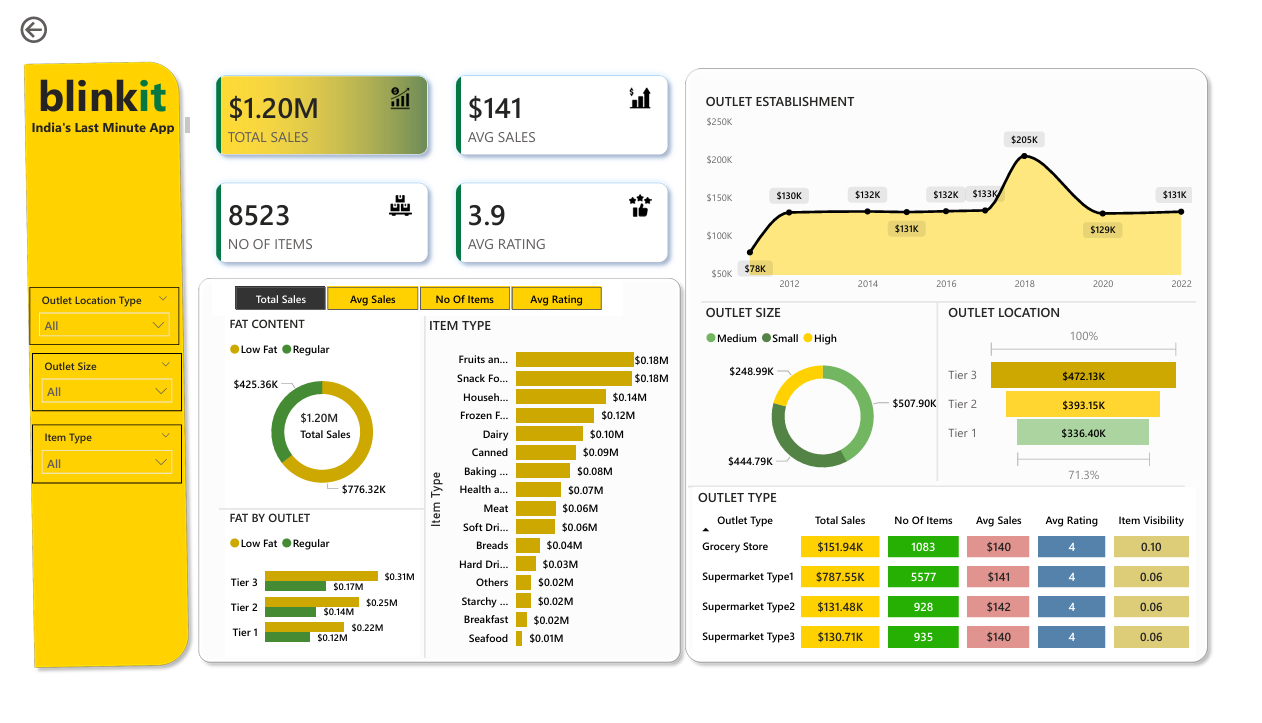

What the dashboard file says about the page in this screenshot:
{"tool":"powerbi","page":{"name":"Page 1","canvas":[1400,800],"ordinal":0},"visuals":[{"type":"shape","box":[0,0,205,800],"z":0},{"type":"textbox","box":[0,115,205,28.3],"z":1000},{"type":"textbox","box":[20,55,160,75],"z":2000},{"type":"actionButton","box":[0,0,100,40],"z":3000},{"type":"cardVisual","fields":{"Data":["BlinkIT Grocery Data.Total Sales","BlinkIT Grocery Data.Avg Sales","BlinkIT Grocery Data.No Of Items","BlinkIT Grocery Data.Avg Rating"]},"box":[198.3,43.3,570,270],"z":4000},{"type":"shape","box":[198.3,293.3,563.3,453.3],"z":5000},{"type":"slicer","fields":{"Values":["Metrics.Metrics"]},"box":[223.3,305,465,40],"z":6000},{"type":"donutChart","title":"FAT CONTENT","fields":{"Y":["BlinkIT Grocery Data.Total Sales"],"Category":["BlinkIT Grocery Data.Item Fat Content"]},"box":[236.7,345,220,216.7],"z":7000},{"type":"cardVisual","fields":{"Data":["BlinkIT Grocery Data.Total Sales"]},"box":[293.3,430,133.3,75],"z":8000},{"type":"clusteredBarChart","title":" FAT BY OUTLET","fields":{"Y":["BlinkIT Grocery Data.Total Sales"],"Category":["BlinkIT Grocery Data.Outlet Location Type"],"Series":["BlinkIT Grocery Data.Item Fat Content"]},"box":[236.7,565,220,168.3],"z":9000},{"type":"shape","box":[230,553.3,233.3,21.7],"z":10000},{"type":"shape","box":[456.7,345,13.3,388.3],"z":11000},{"type":"barChart","title":"ITEM TYPE","fields":{"Y":["BlinkIT Grocery Data.Total Sales"],"Category":["BlinkIT Grocery Data.Item Type"]},"box":[463.3,345,281.7,388.3],"z":12000},{"type":"shape","box":[750,55,610,691.7],"z":13000},{"type":"lineChart","title":"OUTLET ESTABLISHMENT","fields":{"Y":["BlinkIT Grocery Data.Total Sales"],"Category":["BlinkIT Grocery Data.Outlet Establishment Year"]},"box":[776.7,90,561.7,235],"z":14000},{"type":"shape","box":[776.7,313.3,561.7,31.7],"z":15000},{"type":"donutChart","title":"OUTLET SIZE","fields":{"Y":["BlinkIT Grocery Data.Total Sales"],"Category":["BlinkIT Grocery Data.Outlet Size"]},"box":[776.7,330,275,210],"z":16000},{"type":"shape","box":[1036.7,330,15,201.7],"z":17000},{"type":"funnel","title":"OUTLET LOCATION","fields":{"Category":["BlinkIT Grocery Data.Outlet Location Type"],"Y":["BlinkIT Grocery Data.Total Sales"]},"box":[1051.7,330,273.3,210],"z":18000},{"type":"shape","box":[761.7,531.7,563.3,13.3],"z":19000},{"type":"pivotTable","title":"OUTLET TYPE","fields":{"Values":["BlinkIT Grocery Data.Total Sales","BlinkIT Grocery Data.No Of Items","BlinkIT Grocery Data.Avg Sales","BlinkIT Grocery Data.Avg Rating","Avg(BlinkIT Grocery Data.Item Visibility)"],"Rows":["BlinkIT Grocery Data.Outlet Type"]},"box":[768.3,540,570,193.3],"z":20000},{"type":"slicer","fields":{"Values":["BlinkIT Grocery Data.Outlet Location Type"]},"box":[15,311.7,170,66.7],"z":21000},{"type":"slicer","fields":{"Values":["BlinkIT Grocery Data.Outlet Size"]},"box":[18.3,386.7,170,66.7],"z":22000},{"type":"slicer","fields":{"Values":["BlinkIT Grocery Data.Item Type"]},"box":[18.3,468.3,170,66.7],"z":23000}]}

Visuals, with their boxes on the page's 1400x800 design canvas (x1, y1, x2, y2). These are canvas units, not pixel positions in the 1262x723 screenshot, which may show the page scaled, cropped or inside an application window:
shape: BBox(0, 0, 205, 800)
textbox: BBox(0, 115, 205, 143)
textbox: BBox(20, 55, 180, 130)
actionButton: BBox(0, 0, 100, 40)
cardVisual - BlinkIT Grocery Data.Total Sales x BlinkIT Grocery Data.Avg Sales: BBox(198, 43, 768, 313)
shape: BBox(198, 293, 762, 747)
slicer - Metrics.Metrics: BBox(223, 305, 688, 345)
"FAT CONTENT" donutChart: BBox(237, 345, 457, 562)
cardVisual - BlinkIT Grocery Data.Total Sales: BBox(293, 430, 427, 505)
" FAT BY OUTLET" clusteredBarChart: BBox(237, 565, 457, 733)
shape: BBox(230, 553, 463, 575)
shape: BBox(457, 345, 470, 733)
"ITEM TYPE" barChart: BBox(463, 345, 745, 733)
shape: BBox(750, 55, 1360, 747)
"OUTLET ESTABLISHMENT" lineChart: BBox(777, 90, 1338, 325)
shape: BBox(777, 313, 1338, 345)
"OUTLET SIZE" donutChart: BBox(777, 330, 1052, 540)
shape: BBox(1037, 330, 1052, 532)
"OUTLET LOCATION" funnel: BBox(1052, 330, 1325, 540)
shape: BBox(762, 532, 1325, 545)
"OUTLET TYPE" pivotTable: BBox(768, 540, 1338, 733)
slicer - BlinkIT Grocery Data.Outlet Location Type: BBox(15, 312, 185, 378)
slicer - BlinkIT Grocery Data.Outlet Size: BBox(18, 387, 188, 453)
slicer - BlinkIT Grocery Data.Item Type: BBox(18, 468, 188, 535)
